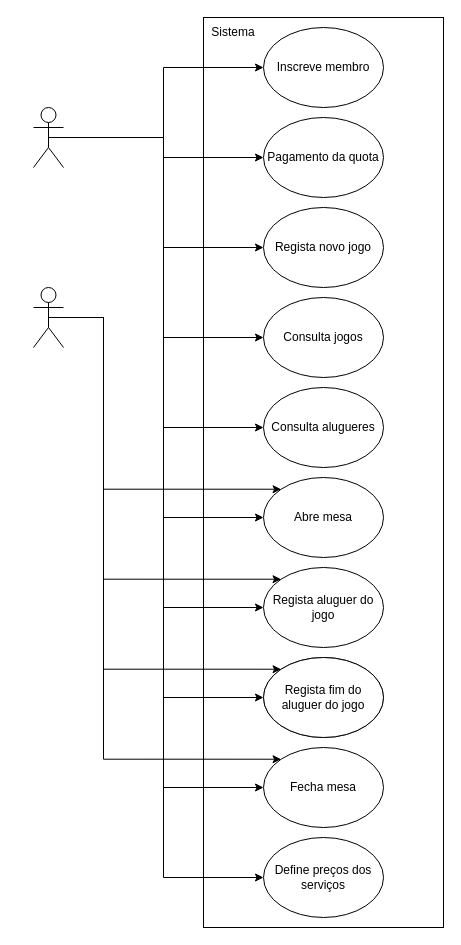
Some shapes in this 461 by 945 pixel diagram are drawn without their labels. The centre of each missing label's shape, as x and y in pixels:
Cliente: point 48,317
Funcionário: point 48,137
